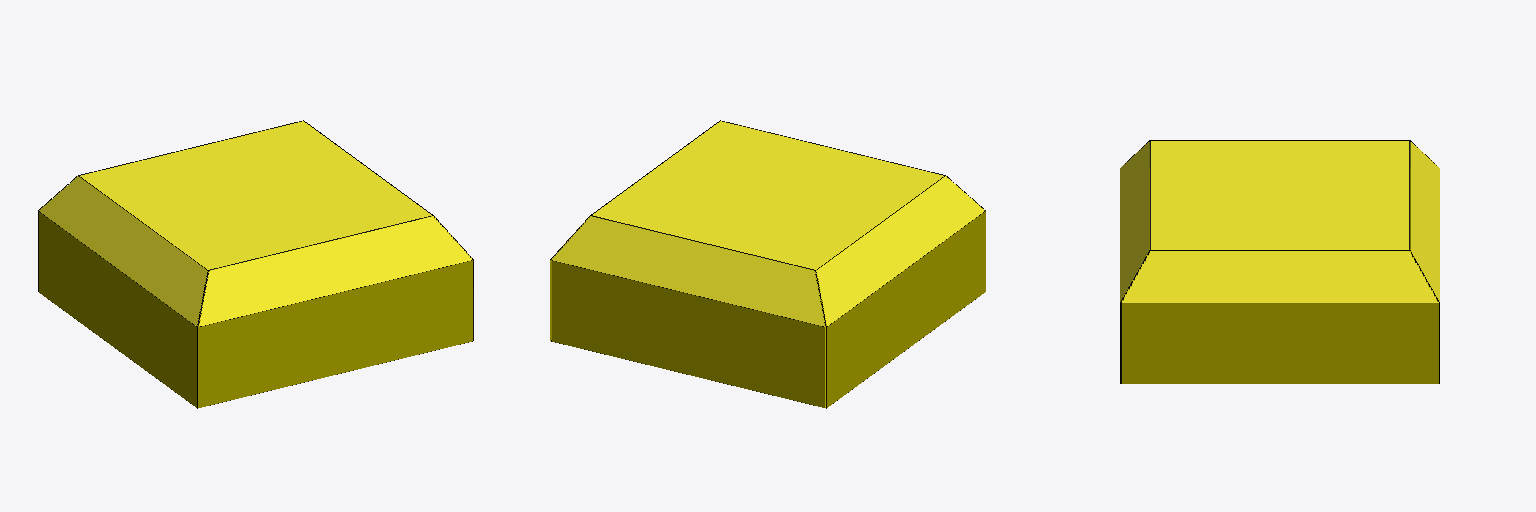
The picture shows the model from 3 angles: view 1: azimuth 30°, elevation 25°; view 2: azimuth 150°, elevation 25°; view 3: azimuth 270°, elevation 25°; orthographic projection.
Visible parts, largest first — view 1: Cube; view 2: Cube; view 3: Cube.
Part boxes in pixels (x1,y1,x2,y2): Cube: (38,120,473,408); Cube: (550,120,985,408); Cube: (1120,140,1439,383).
Size of the model in its own units: 2 by 0.8355 by 2.
1 materials, 1 textured.